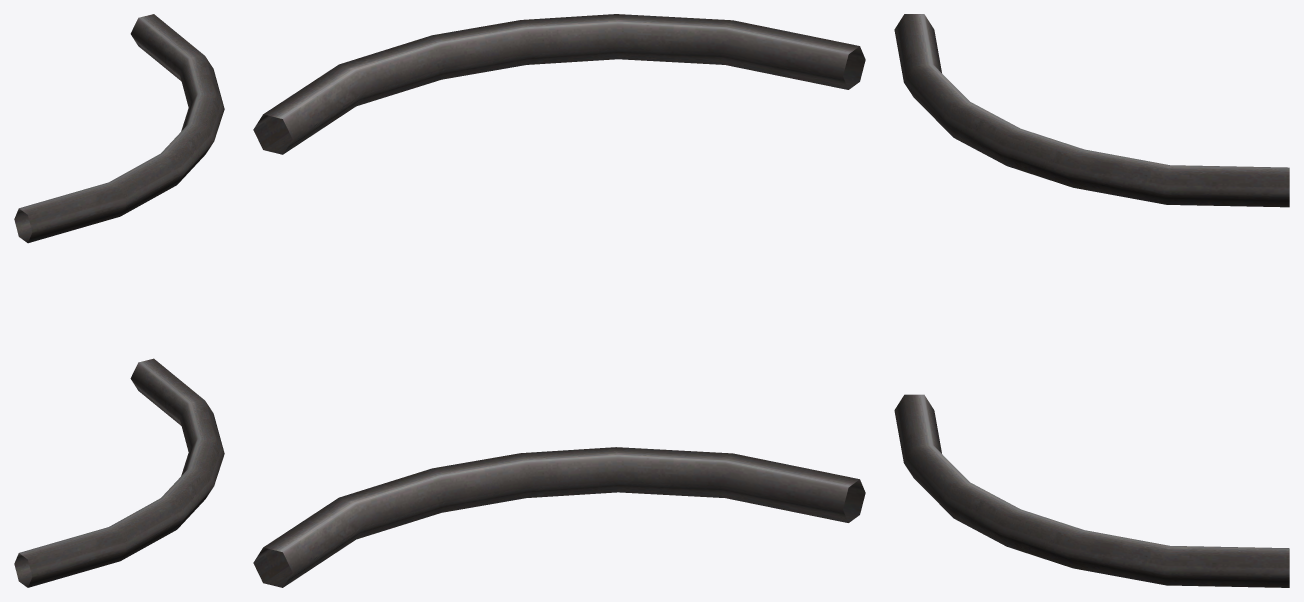
File: railings_factory_bend.DAE
3 renders of one model, left to right at view 1: azimuth 30°, elevation 25°; view 2: azimuth 150°, elevation 25°; view 3: azimuth 270°, elevation 25°, orthographic. The views are drawn at different scales.
Visible parts, largest first — view 1: Object071; view 2: Object071; view 3: Object071.
Part boxes in pixels (x1,y1,x2,y2): Object071: (14, 14, 224, 587); Object071: (253, 14, 865, 587); Object071: (894, 14, 1289, 587).
Size of the model in its own units: 0.5903 by 0.6823 by 0.5931.
